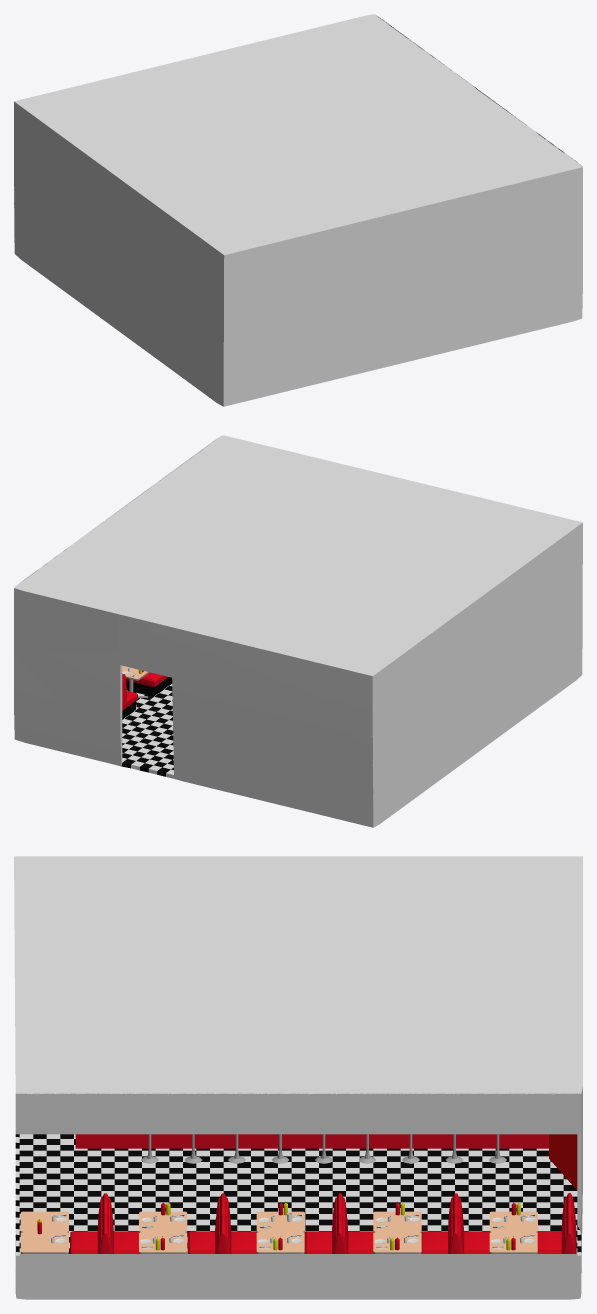
File: resto.glb
3 views of the same model, one above another, from view 1: azimuth 30°, elevation 25°; view 2: azimuth 150°, elevation 25°; view 3: azimuth 270°, elevation 25° (orthographic). The views are drawn at different scales.
Parts seen in each view (by area): view 1: Batiment; view 2: Batiment, Siege double 3; view 3: Batiment, Comptoir, Tabourets, Siege double 5, Siege double 3, Siege double 7, Siege double 1, Table 8, Table 9, Table 10, Table 4, Siege simple 1 (+11 smaller).
Boxes of the visible parts, x1,y1,x2,y2 form: Batiment: (14,14,582,406); Batiment: (14,435,582,827); Siege double 3: (126,672,172,696); Batiment: (14,856,582,1299); Comptoir: (75,1134,548,1148); Tabourets: (141,1134,506,1163); Siege double 5: (187,1193,256,1253); Siege double 3: (304,1193,373,1253); Siege double 7: (70,1193,138,1253); Siege double 1: (421,1193,489,1251); Table 8: (20,1232,68,1253); Table 9: (20,1211,68,1232); Table 10: (489,1232,537,1253); Table 4: (256,1232,304,1253); Siege simple 1: (537,1193,576,1253).
Size of what is drawn, in the model's own units: 10.1 by 4.1 by 10.2.
